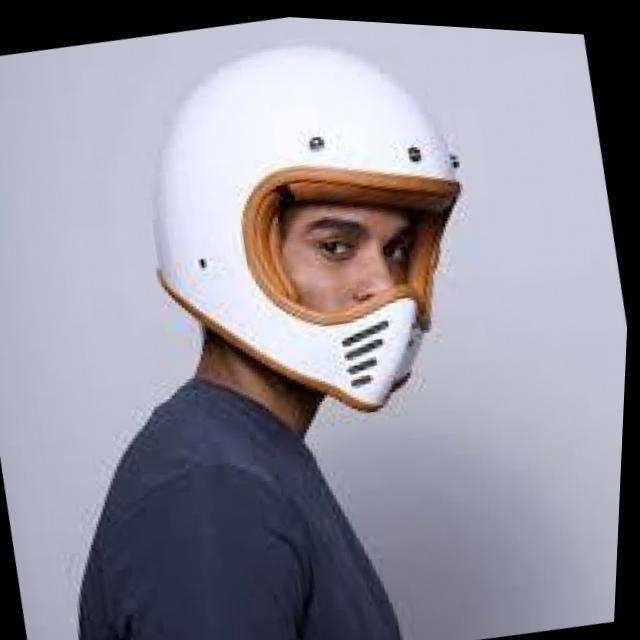Helmet: (148, 42, 464, 413)
